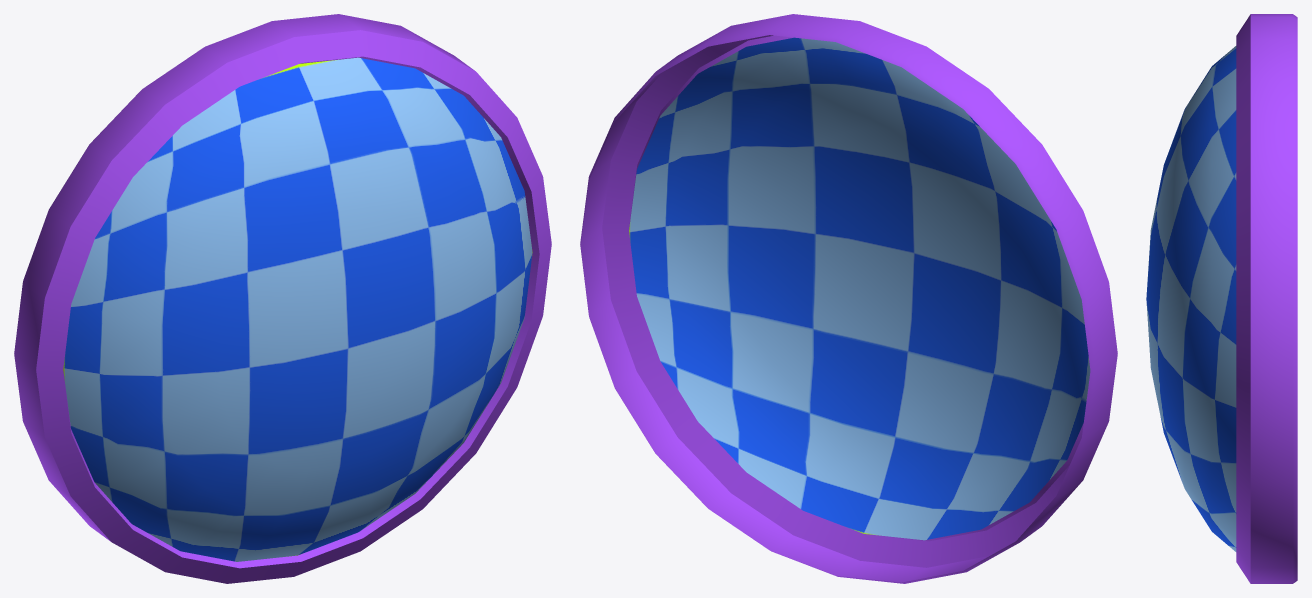
The model's file is LightWall01_1.FBX.
3 renders of one model, left to right at view 1: azimuth 30°, elevation 25°; view 2: azimuth 150°, elevation 25°; view 3: azimuth 270°, elevation 25°, orthographic. The views are drawn at different scales.
Visible parts, largest first — view 1: LightWall01_1; view 2: LightWall01_1; view 3: LightWall01_1.
Boxes of the visible parts, x1=… form: LightWall01_1: x1=14, y1=14, x2=551, y2=583; LightWall01_1: x1=580, y1=14, x2=1117, y2=583; LightWall01_1: x1=1146, y1=14, x2=1297, y2=583.
Bounding box in the file's own units: 37.9 × 37.9 × 10.02.
